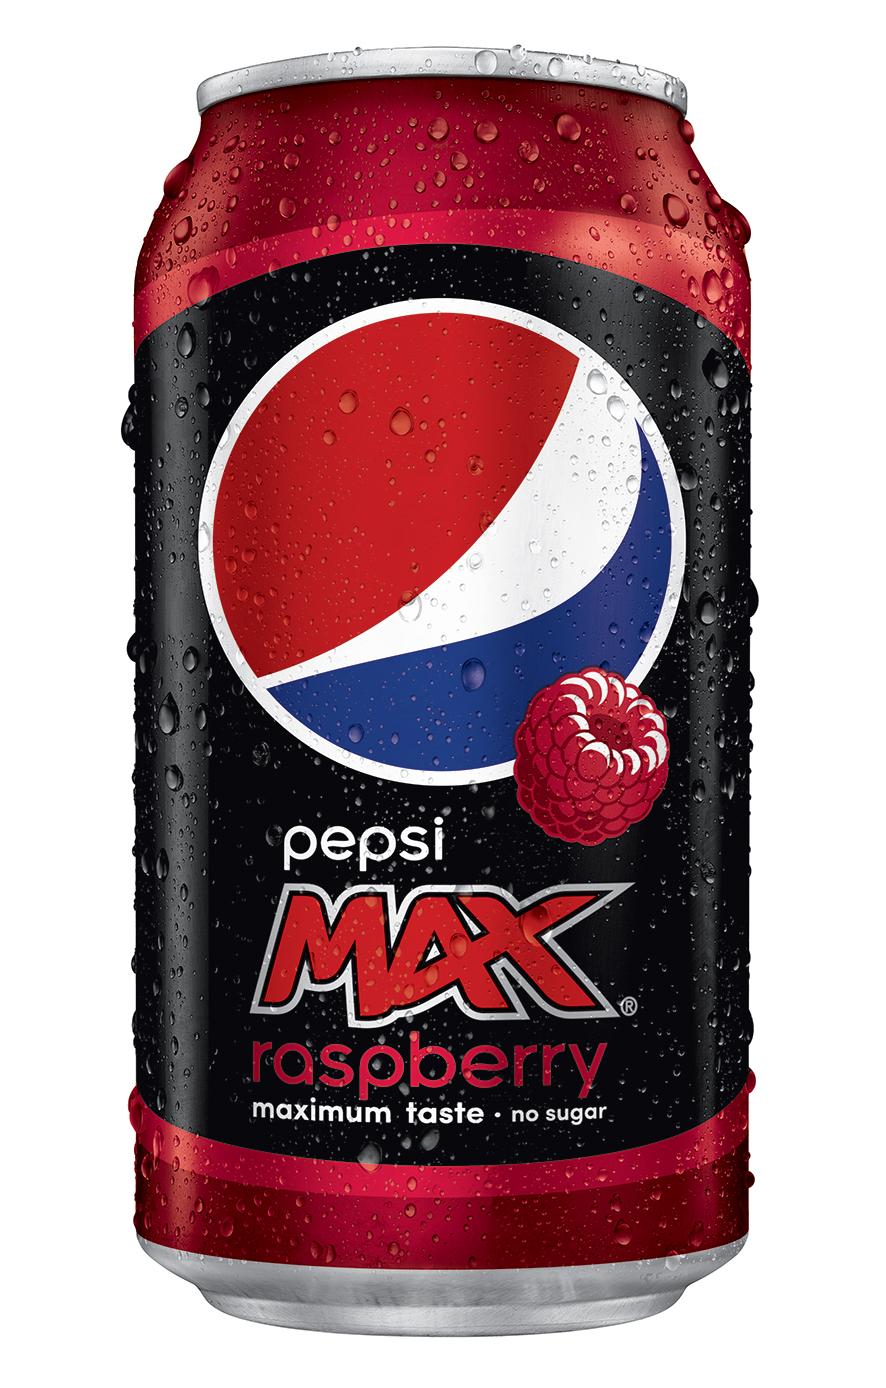pepsi: (215, 307, 672, 769)
